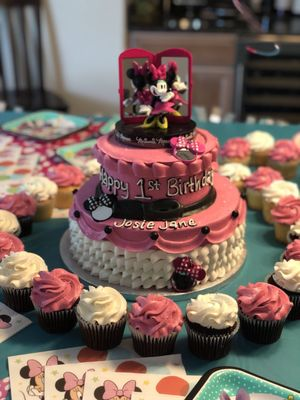curry: (1, 98, 300, 398)
sushi: (63, 56, 249, 291), (185, 367, 299, 400), (185, 293, 240, 361), (127, 293, 185, 357), (236, 282, 294, 344), (30, 268, 85, 332), (75, 285, 128, 351), (0, 250, 48, 313), (1, 174, 58, 222), (0, 189, 38, 235)
